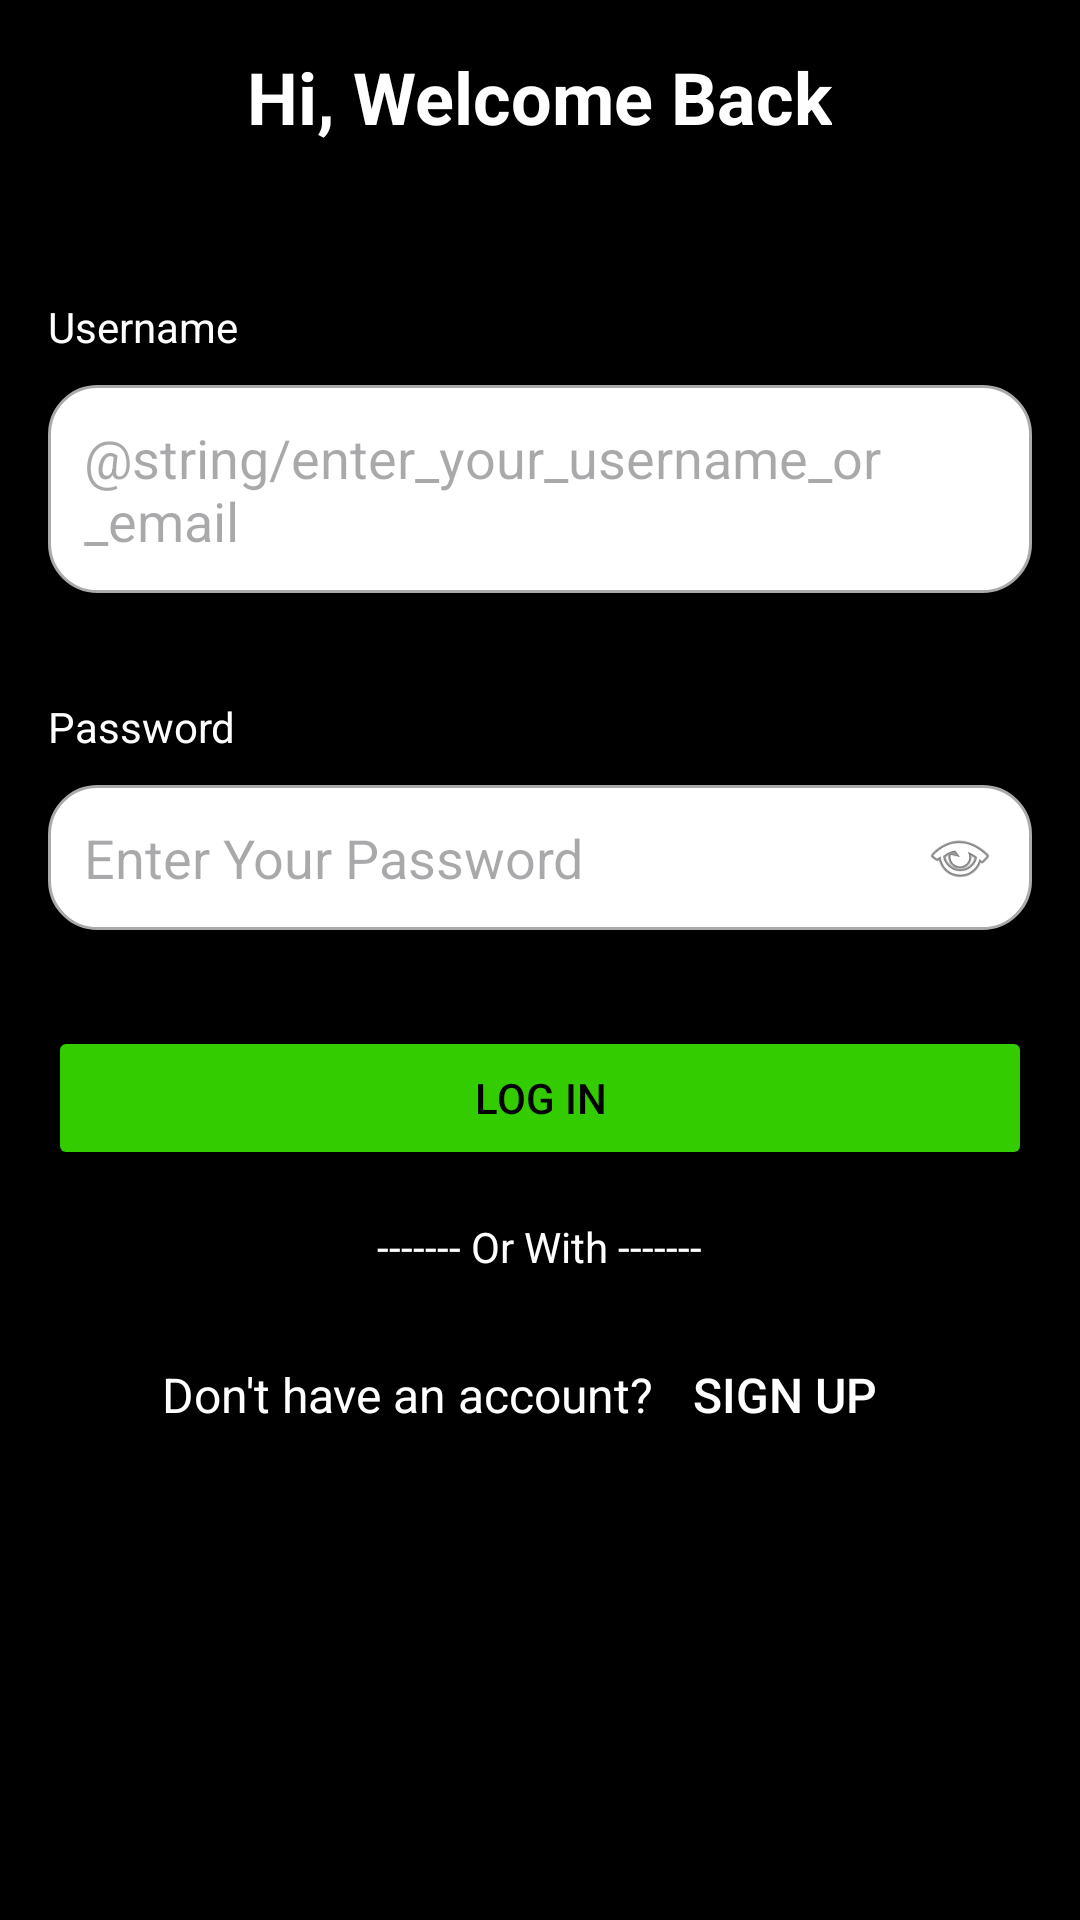

Screen size 1080 × 1920. Icon name, then its box in pixels as (x1, y1, x2, y2):
Toggle Password Visibility: (931, 840, 989, 877)
